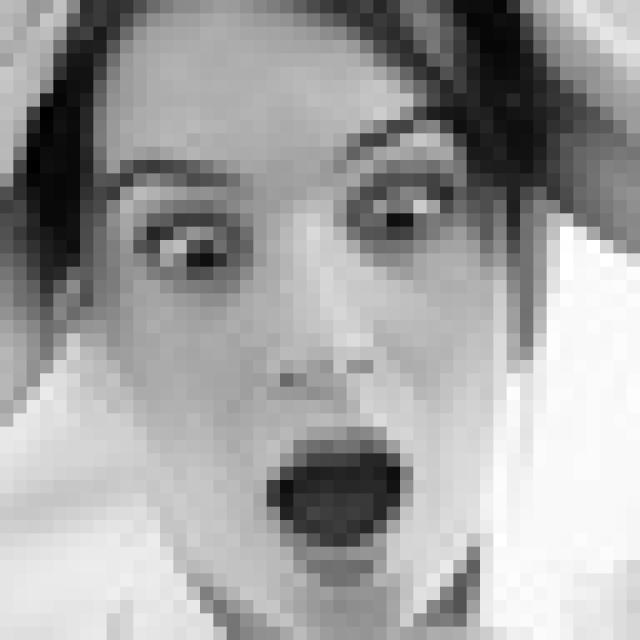surprise: (93, 100, 482, 581)
